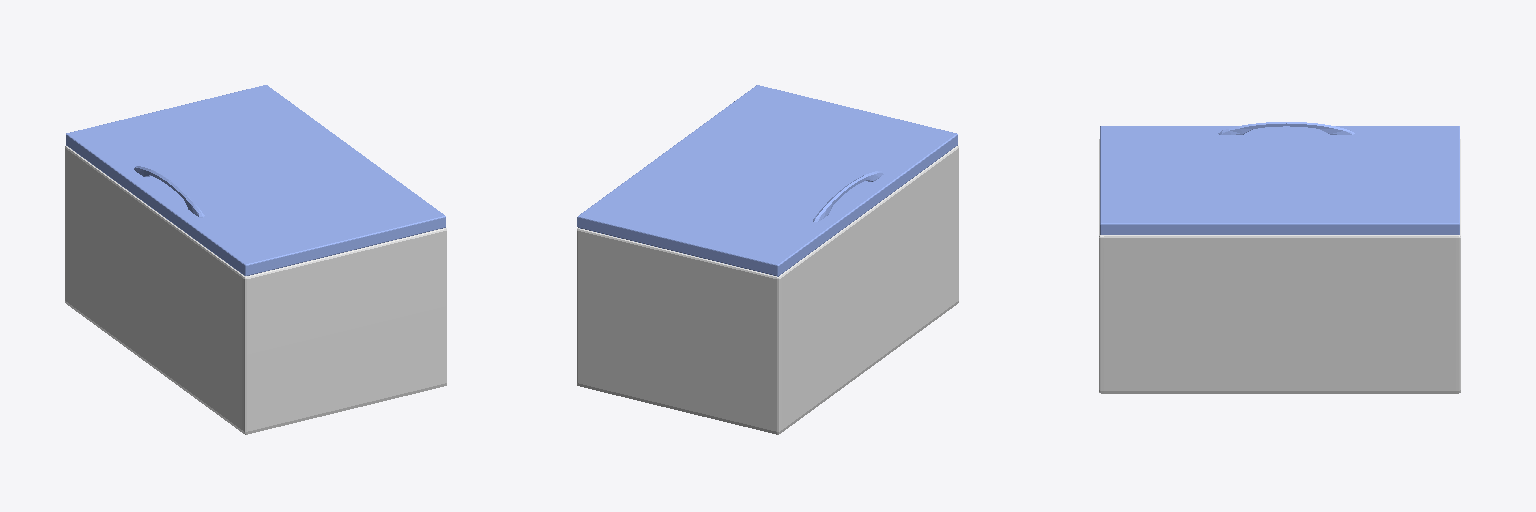
The model's file is Freezer.obj.
3 views of the same model, side by side, from view 1: azimuth 30°, elevation 25°; view 2: azimuth 150°, elevation 25°; view 3: azimuth 270°, elevation 25° (orthographic).
Parts seen in each view (by area): view 1: Refrigerator_body, Freezer_door; view 2: Refrigerator_body, Freezer_door; view 3: Refrigerator_body, Freezer_door.
Boxes of the visible parts, box(x1,y1,x2,y2) form: Refrigerator_body: box(65, 146, 446, 434); Freezer_door: box(66, 85, 445, 275); Refrigerator_body: box(577, 146, 958, 434); Freezer_door: box(577, 85, 957, 276); Refrigerator_body: box(1099, 139, 1460, 393); Freezer_door: box(1100, 122, 1459, 234).
Size of the model in its own units: 70.02 by 61.58 by 108.